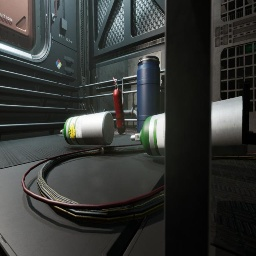0: (130, 96, 248, 156), (60, 111, 115, 145)
FireExtinguisher ]: (112, 77, 126, 134)
